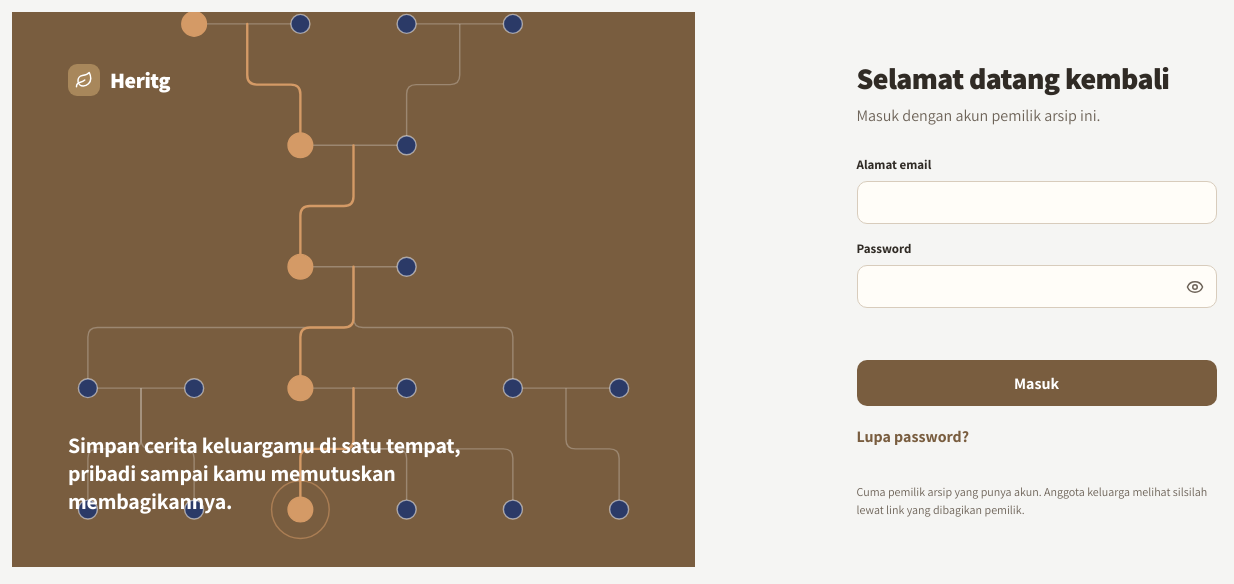
it: LoginPage › shows a neutral error without revealing whether the account exists
This screenshot has width=1234, height=584.
Type "unknown@example.test" into the field labelled "Alamat email" at (1036, 202), box [856,181,1216,224]
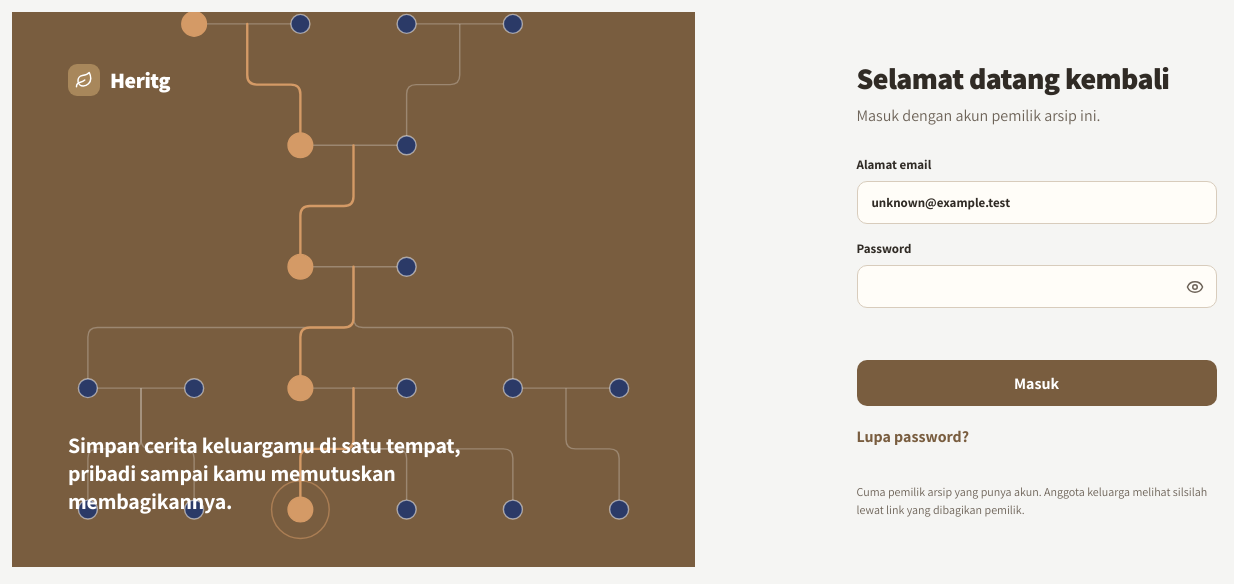
Type "whatever-pass" into the password field labelled "Password" at (1036, 286), box [856,265,1216,308]
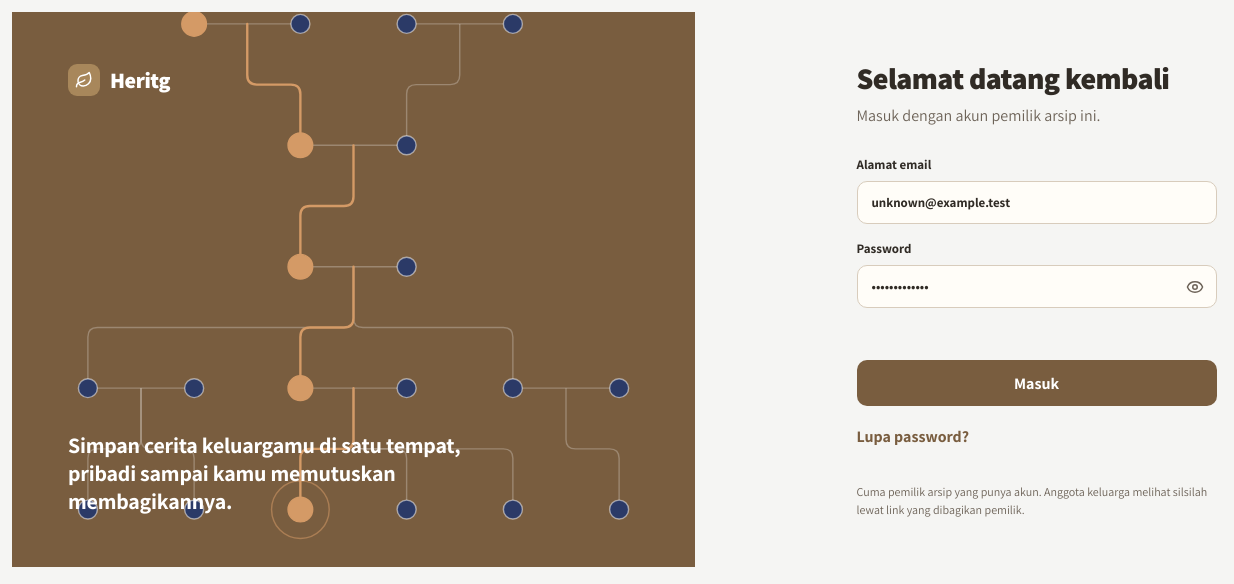
Click the button "Masuk" at (1036, 383), box [856,360,1216,406]
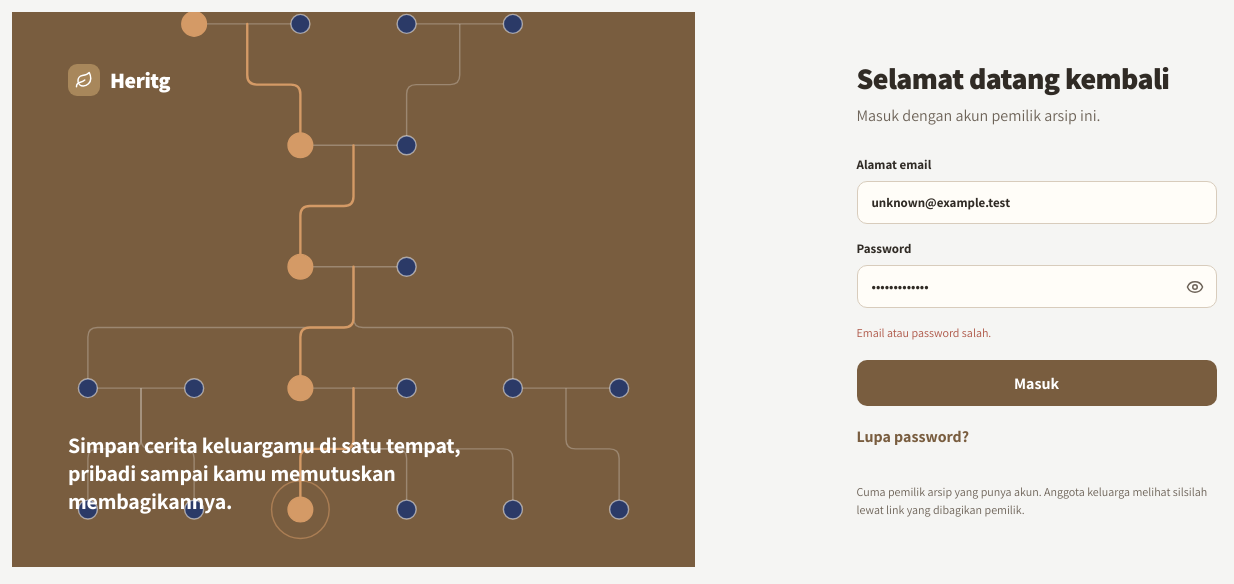
Result: the message reads "Email atau password salah." at [856,325,991,340]
